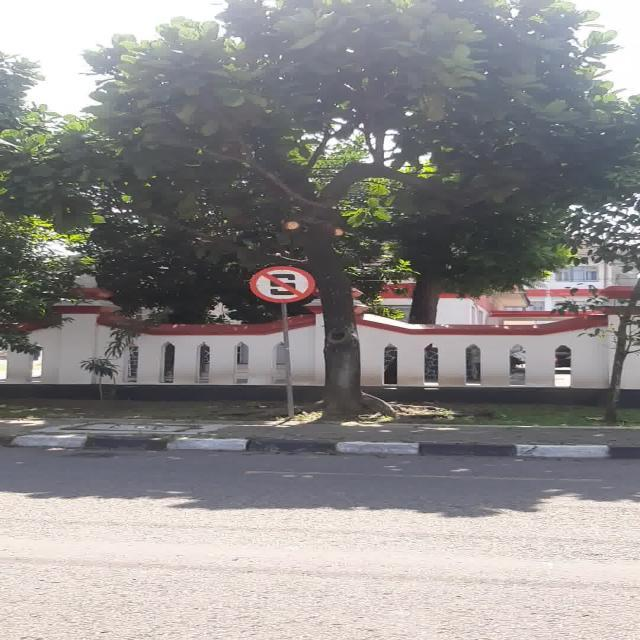Dilarang Berhenti: (250, 266, 315, 303)
